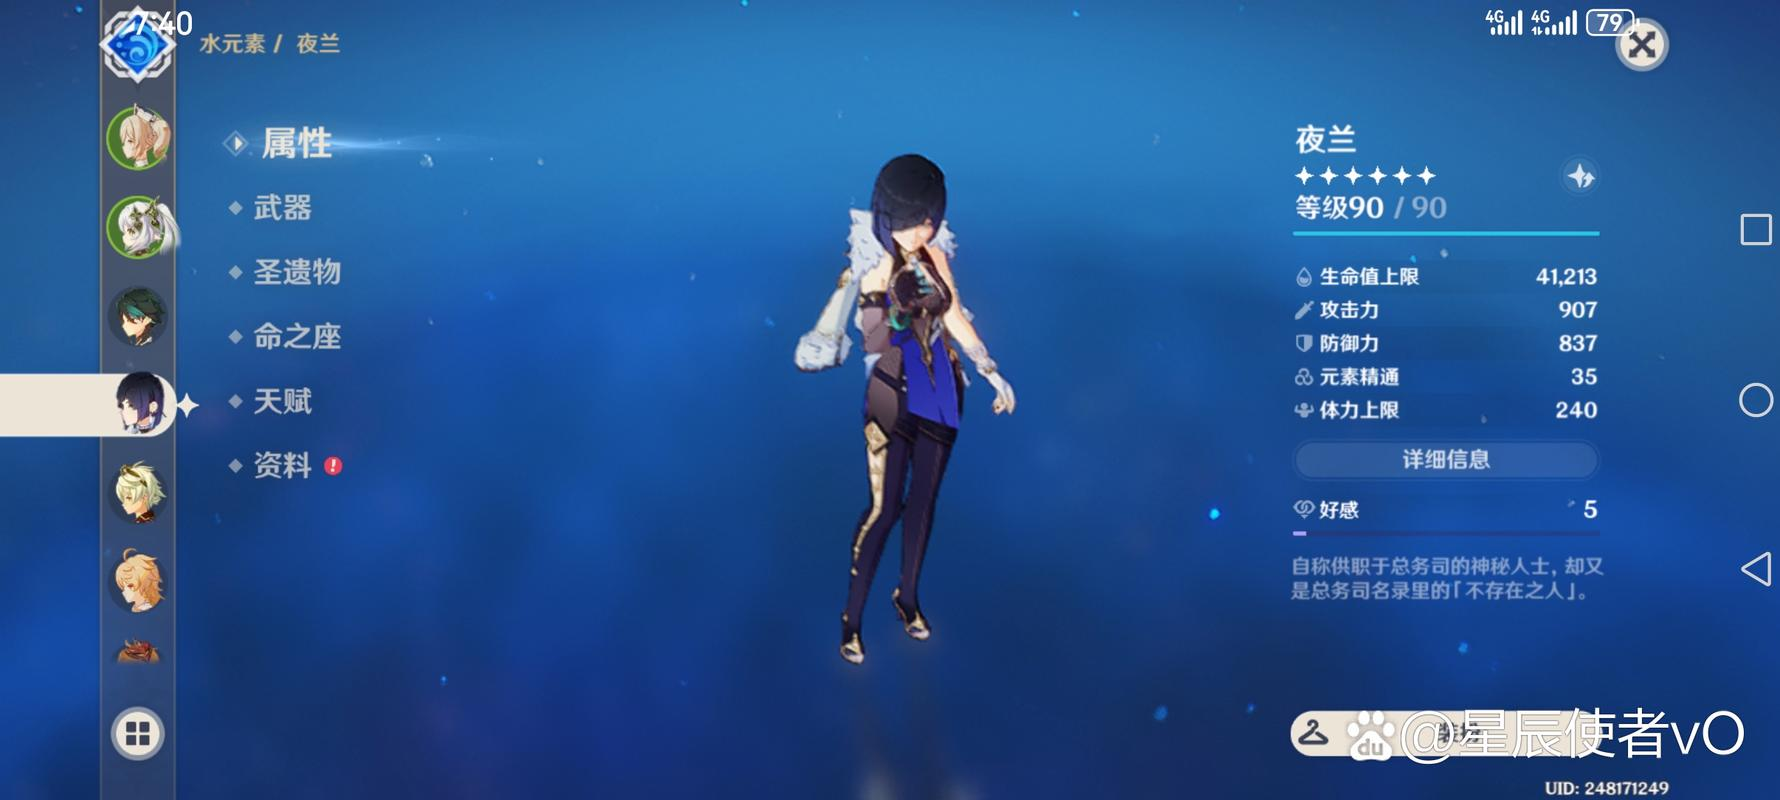夜兰: (805, 138, 1019, 676)
